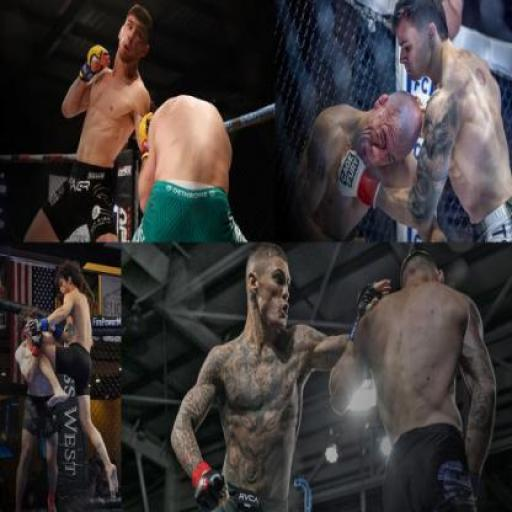Fighting: (171, 247, 495, 511), (12, 0, 250, 245), (292, 2, 512, 243), (17, 268, 127, 509)
